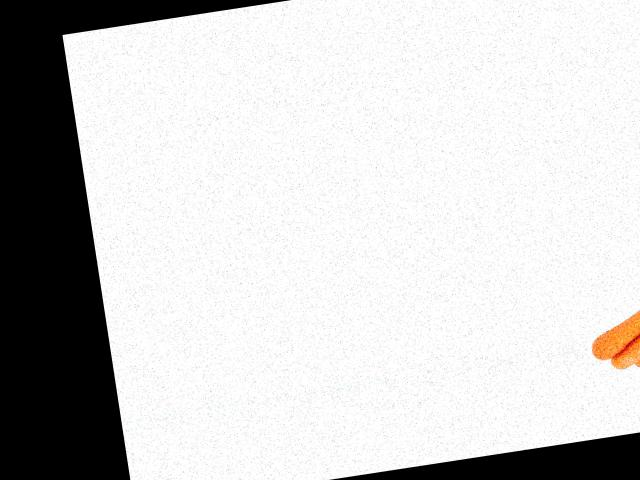carrot: (583, 288, 640, 362)
